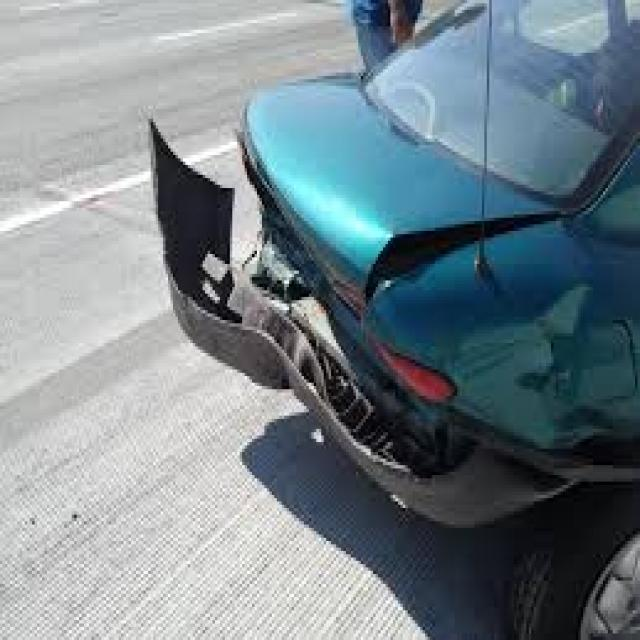moderate: (131, 127, 520, 484)
